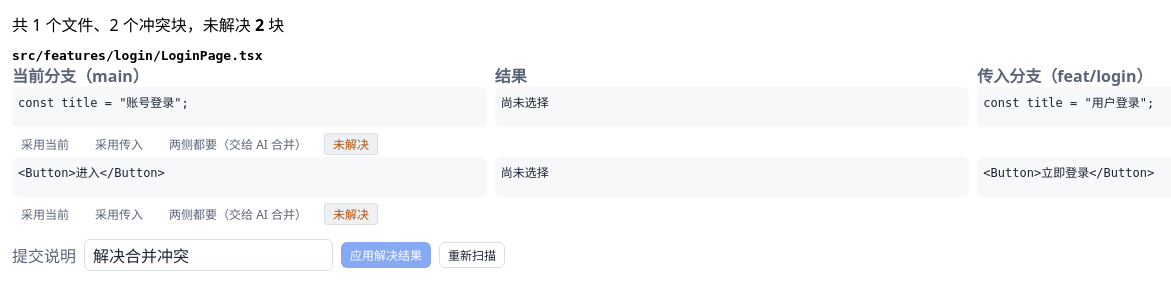
Test: ConflictEditor（T6-04 冲突三栏） › 未解决块计数正确，未全部解决时禁止应用
Expected: the message with test id "conflict-summary" shows "2 个冲突块", 12,14 -> 284,36
Expected: the message with test id "conflict-summary" shows "未解决 2 块", 12,14 -> 284,36
Click the button "采用当前" below "const title = \"账号登录\";". click: coordinates (45, 144)
box: 12,131 -> 78,157
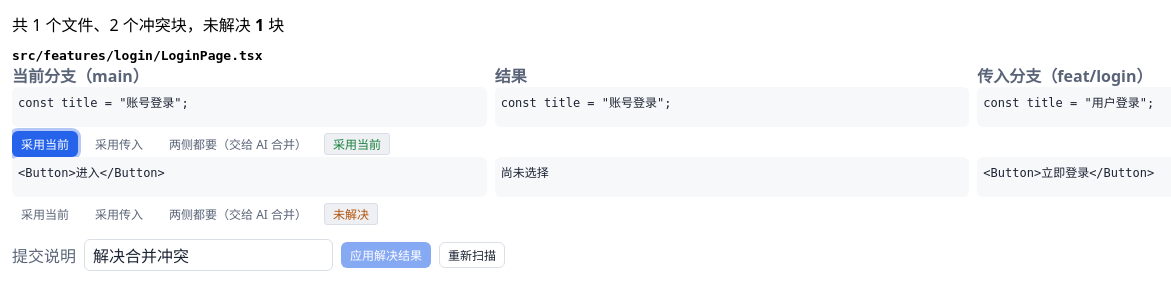
Expected: the message with test id "conflict-summary" shows "未解决 1 块", 12,14 -> 284,36
